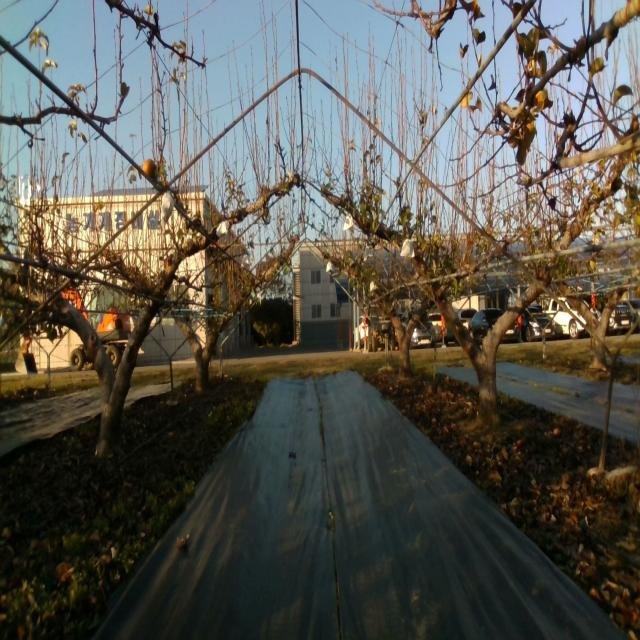pearbags: (161, 190, 175, 226), (400, 237, 415, 258), (216, 220, 229, 238)
